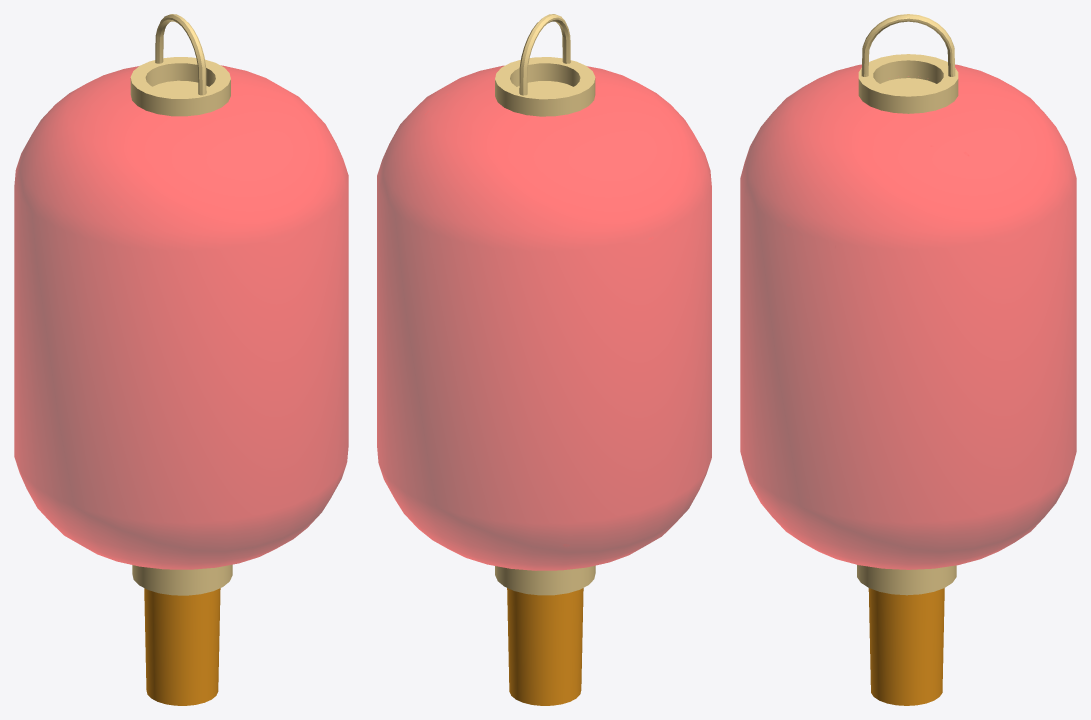
Rendered from Sm_lamp_01.fbx.
The picture shows the model from 3 angles, left to right: view 1: azimuth 30°, elevation 25°; view 2: azimuth 150°, elevation 25°; view 3: azimuth 270°, elevation 25°; orthographic projection.
Parts seen in each view (by area): view 1: Sm_lamp_01; view 2: Sm_lamp_01; view 3: Sm_lamp_01.
Part boxes in pixels (x1,y1,x2,y2): Sm_lamp_01: (14, 14, 348, 705); Sm_lamp_01: (377, 14, 711, 705); Sm_lamp_01: (740, 14, 1076, 705).
Bounding box in the file's own units: 77.57 × 77.57 × 172.
Materials: 1 (1 with a texture image).
